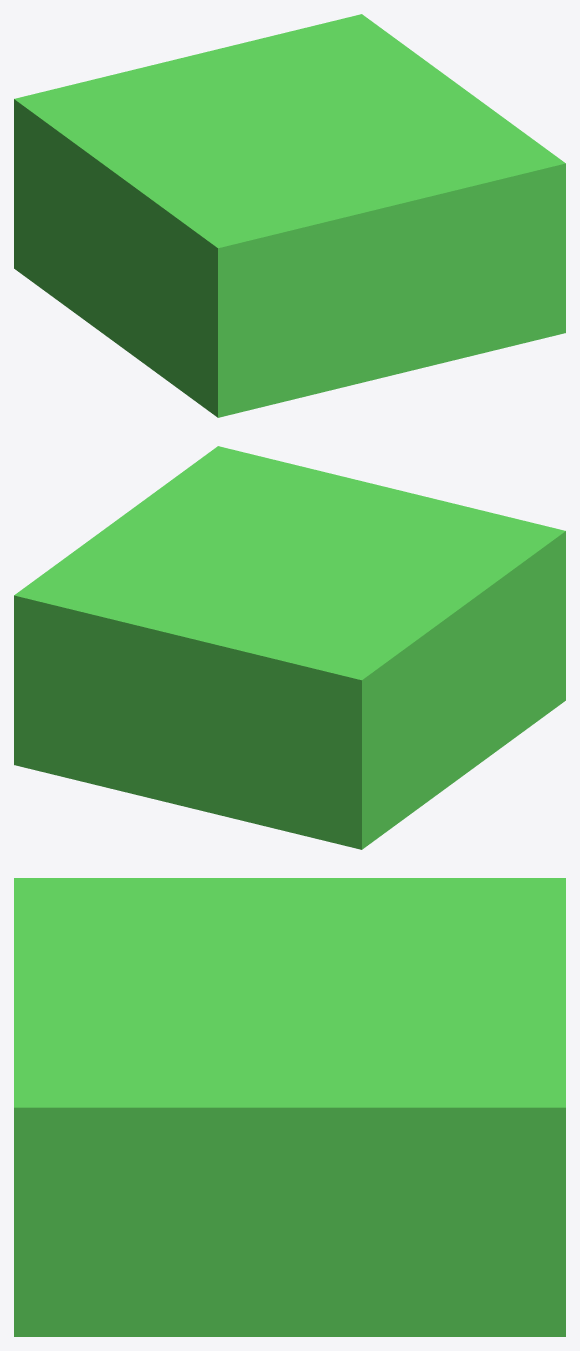
The model's file is box_whack.fbx.
3 views of the same model, one above another, from view 1: azimuth 30°, elevation 25°; view 2: azimuth 150°, elevation 25°; view 3: azimuth 270°, elevation 25° (orthographic). The views are drawn at different scales.
Visible parts, largest first — view 1: box; view 2: box; view 3: box.
Part boxes in pixels (<box>): box: <box>14,14,565,417</box>; box: <box>14,446,565,849</box>; box: <box>14,878,565,1336</box>.
Bounding box in the file's own units: 1289 × 601 × 1310.
